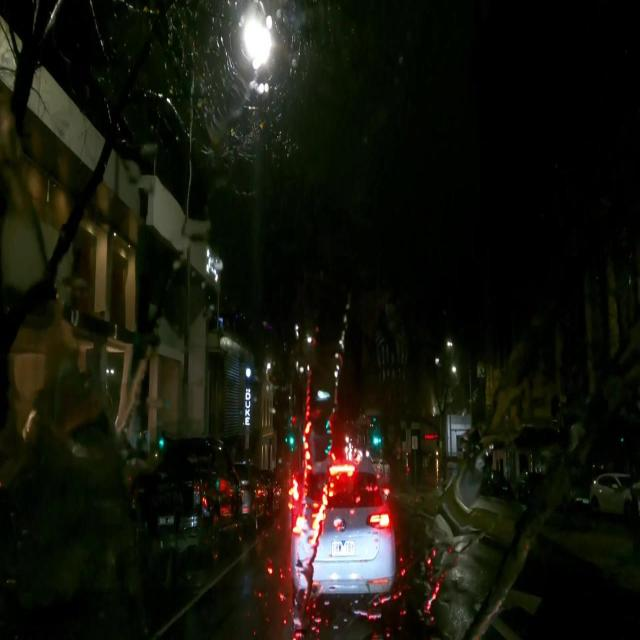Car: (289, 461, 394, 607), (140, 436, 242, 573)
